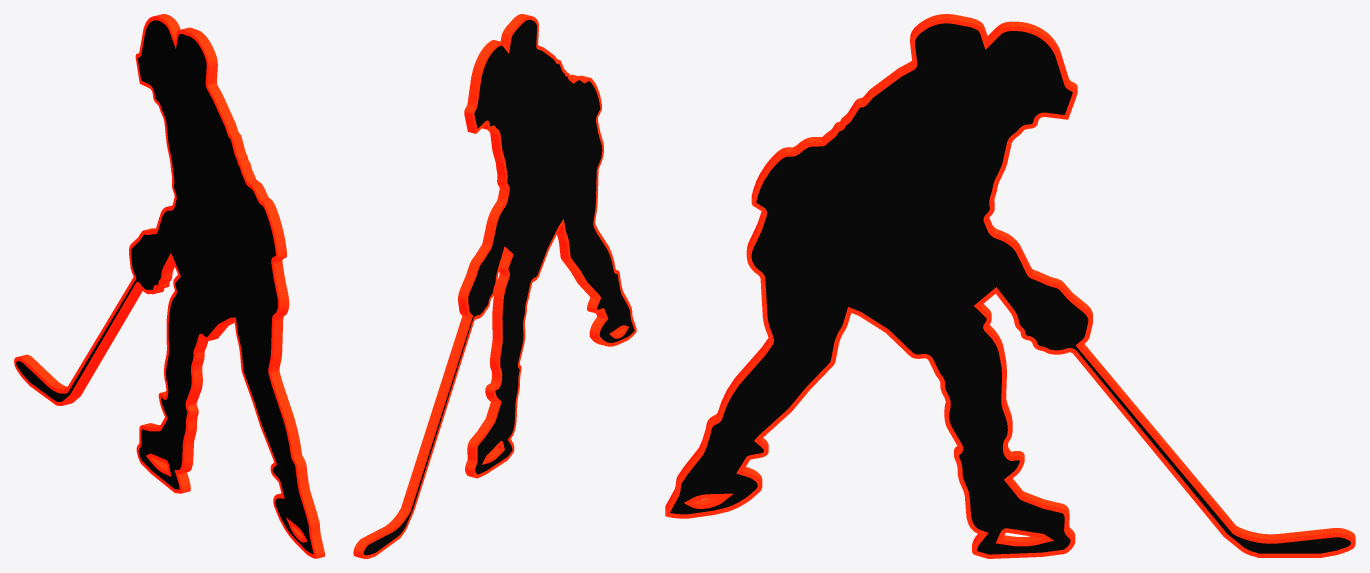
The model's file is Player_2_V1.glb.
3 views of the same model, side by side, from view 1: azimuth 30°, elevation 25°; view 2: azimuth 150°, elevation 25°; view 3: azimuth 270°, elevation 25° (orthographic). The views are drawn at different scales.
Visible parts, largest first — view 1: Hockey_Player; view 2: Hockey_Player; view 3: Hockey_Player.
Part boxes in pixels (box(x1,y1,x2,y2)): Hockey_Player: box(14, 14, 324, 558); Hockey_Player: box(353, 14, 636, 558); Hockey_Player: box(665, 14, 1355, 558).
Size of what is drawn, in the model's own units: 0.056 by 2.78 by 3.22.
